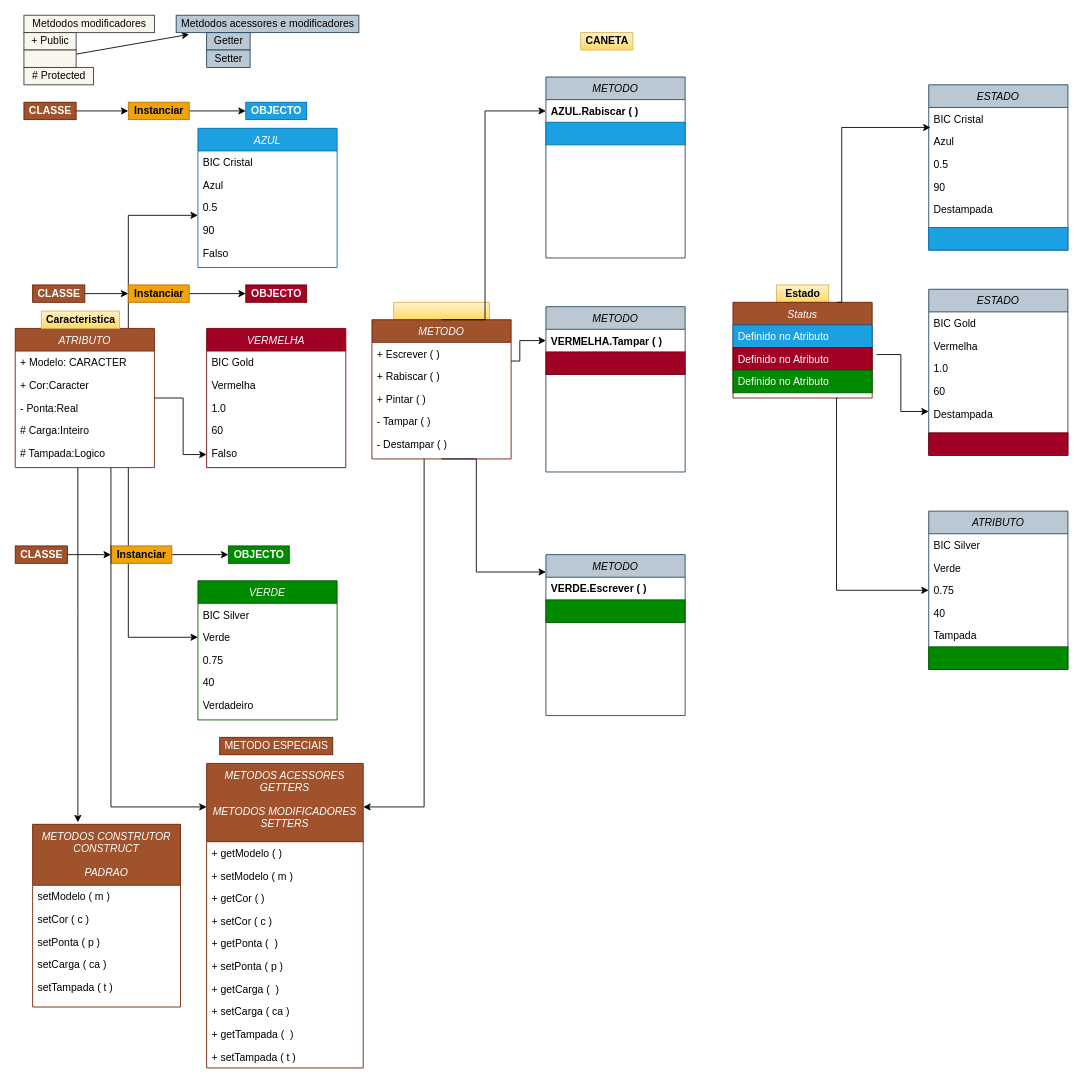
The diagram is 1083 pixels wide and 1086 high, and some of its shapes have lost their labels. Each missing label, with the centre of its shape:
- Private: [49,58]
Comportamento: [441,310]
